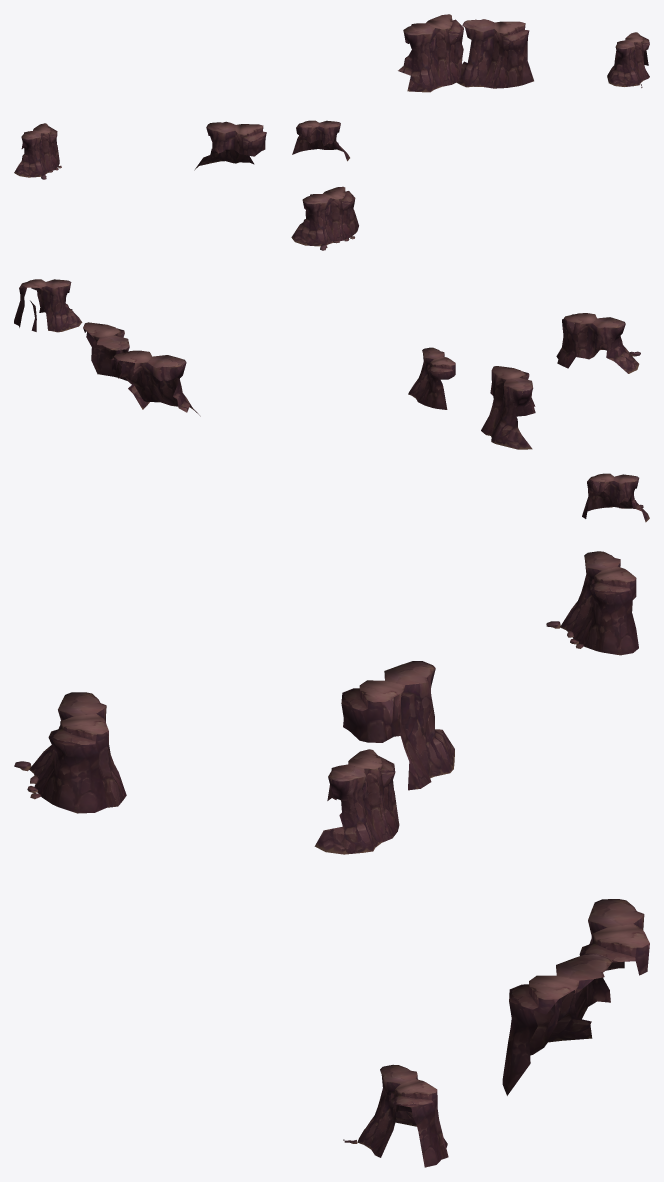
Rendered from area10_shiqiang_03.FBX.
The picture shows the model from 3 angles, top to bottom: view 1: azimuth 30°, elevation 25°; view 2: azimuth 150°, elevation 25°; view 3: azimuth 270°, elevation 25°; orthographic projection. The views are drawn at different scales.
Parts seen in each view (by area): view 1: area10_shiqiang_03; view 2: area10_shiqiang_03; view 3: area10_shiqiang_03.
Part boxes in pixels (bbox=[...]): area10_shiqiang_03: bbox=[14, 14, 649, 250]; area10_shiqiang_03: bbox=[14, 279, 649, 522]; area10_shiqiang_03: bbox=[14, 551, 649, 1167].
Size of the model in its own units: 10300 by 931 by 5007.
